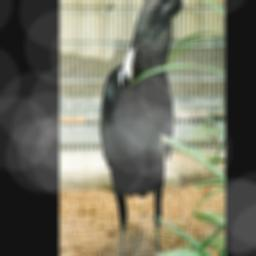Crow: (100, 0, 187, 256)
